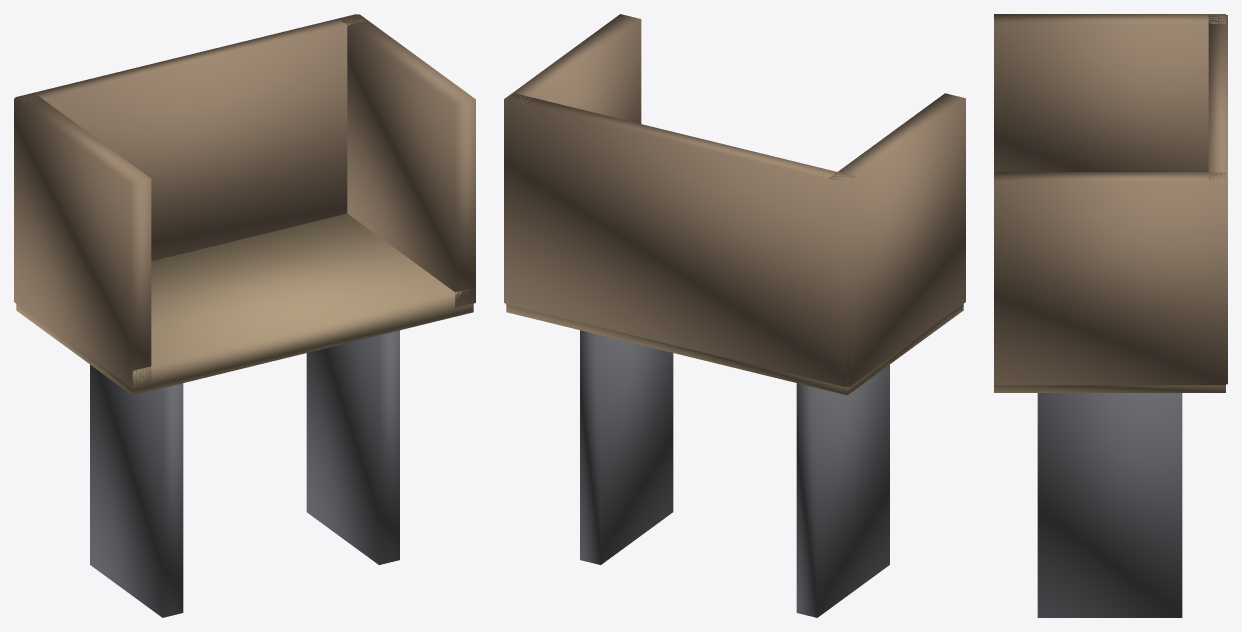
File: study_carrel__wide.glb
3 renders of one model, left to right at view 1: azimuth 30°, elevation 25°; view 2: azimuth 150°, elevation 25°; view 3: azimuth 270°, elevation 25°, orthographic.
Parts seen in each view (by area): view 1: world; view 2: world; view 3: world.
Boxes of the visible parts, x1,y1,x2,y2 form: world: [14, 14, 475, 617]; world: [504, 14, 965, 617]; world: [994, 14, 1227, 617].
Size of the model in its own units: 1.03 by 1.32 by 0.605.
